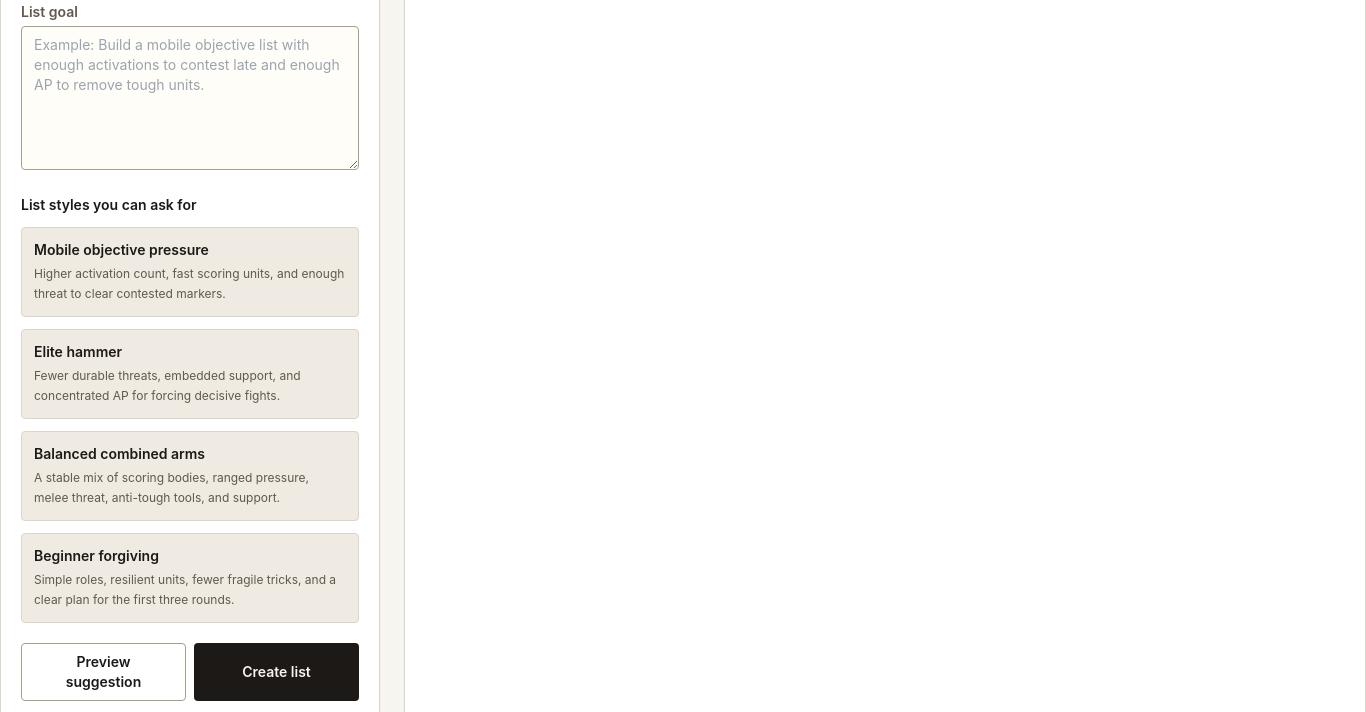
Test case: AdvisorPage › requires a goal before requesting a suggestion
(page scrolled)
Click the button "Preview suggestion". click: (104, 672)
box: x1=21 y1=643 x2=186 y2=701
(page scrolled)
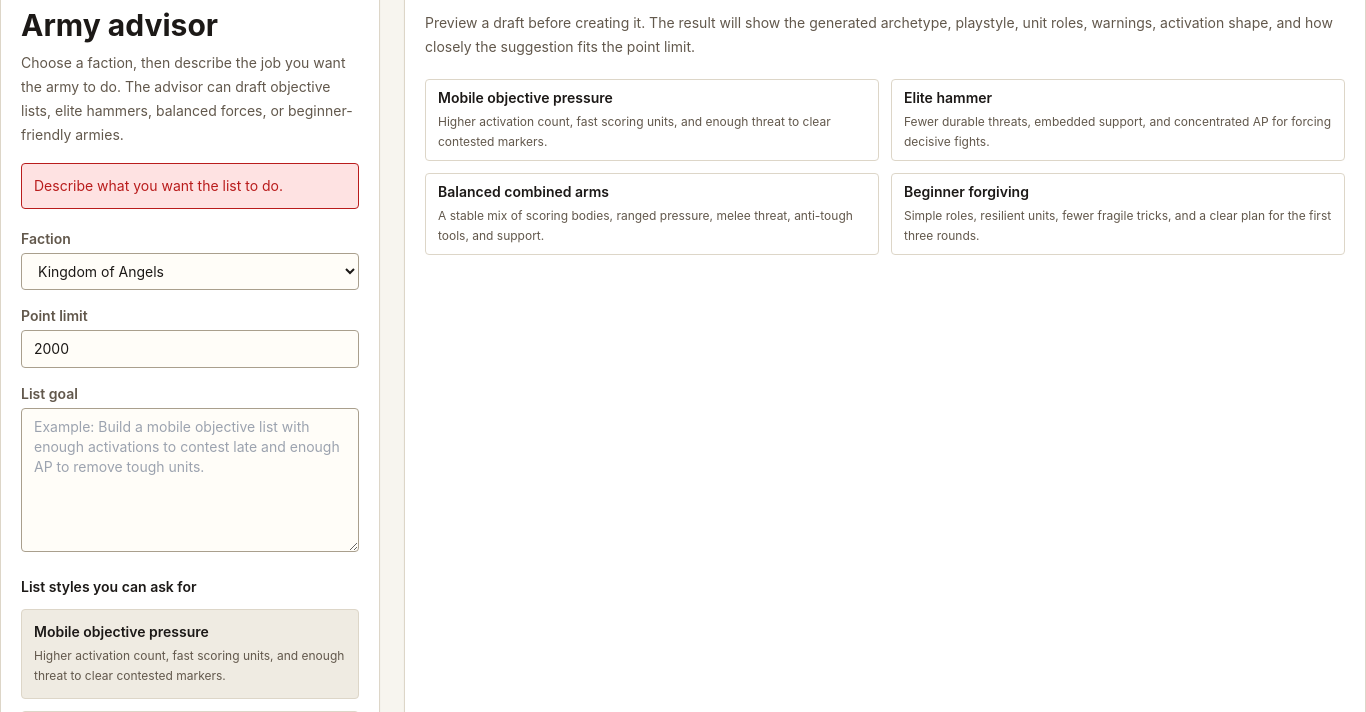
Check: the text "Describe what you want the list to do." is shown, box x1=21 y1=163 x2=359 y2=209
